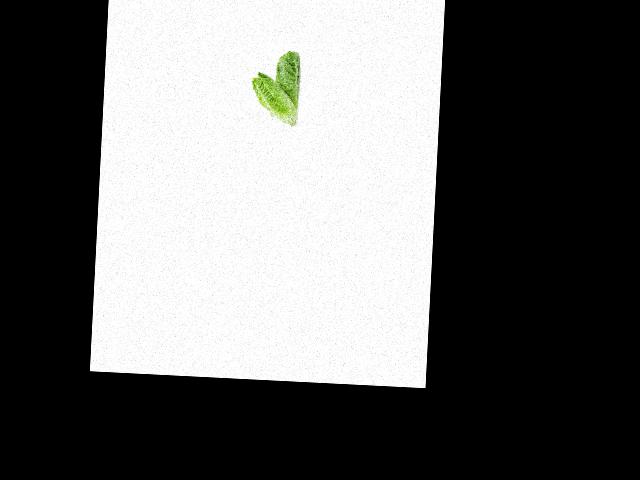lettuce: (272, 45, 305, 111)
